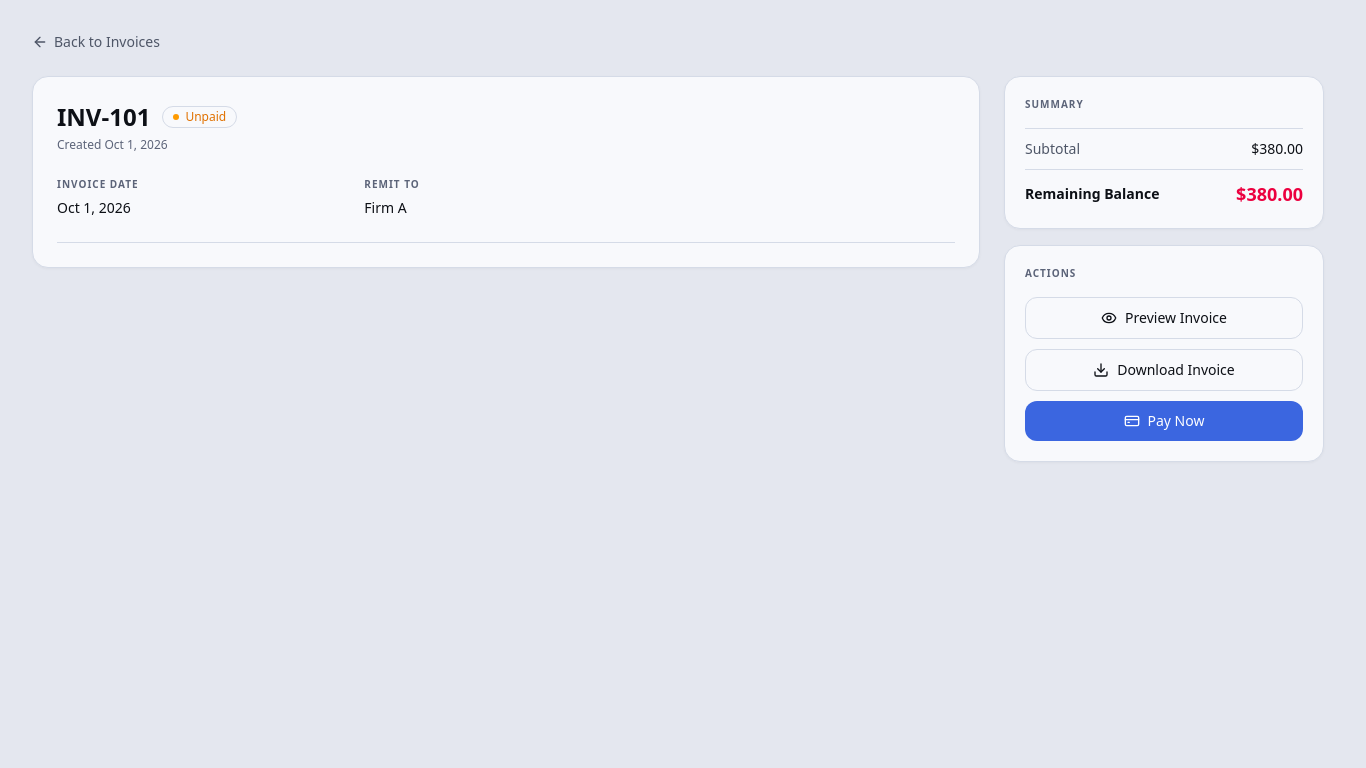
shows a refused checkout on the page and closes the chooser
Click the button "Pay Now": (1164, 421) left=1025, top=401, right=1303, bottom=441
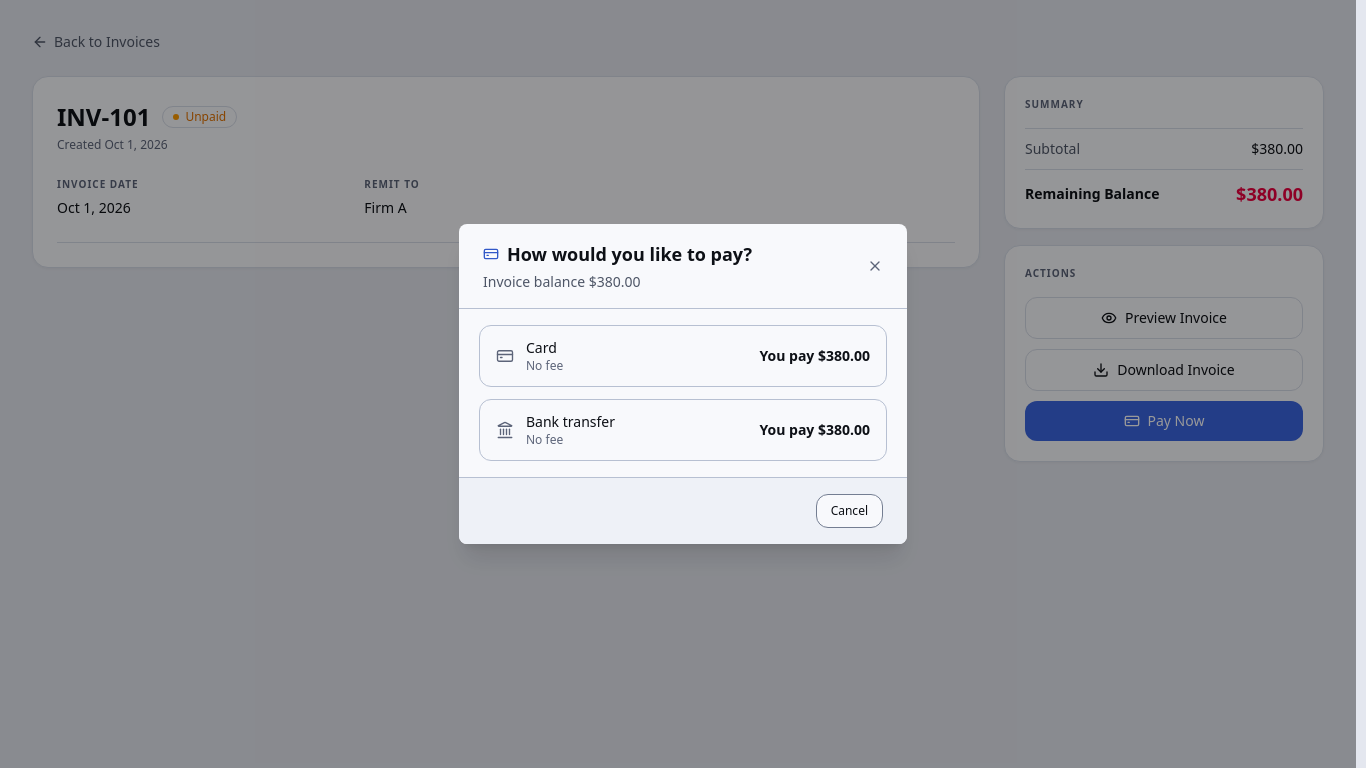
Click the button "Bank transfer No fee You pay $380.00": (570, 422) left=479, top=399, right=887, bottom=461
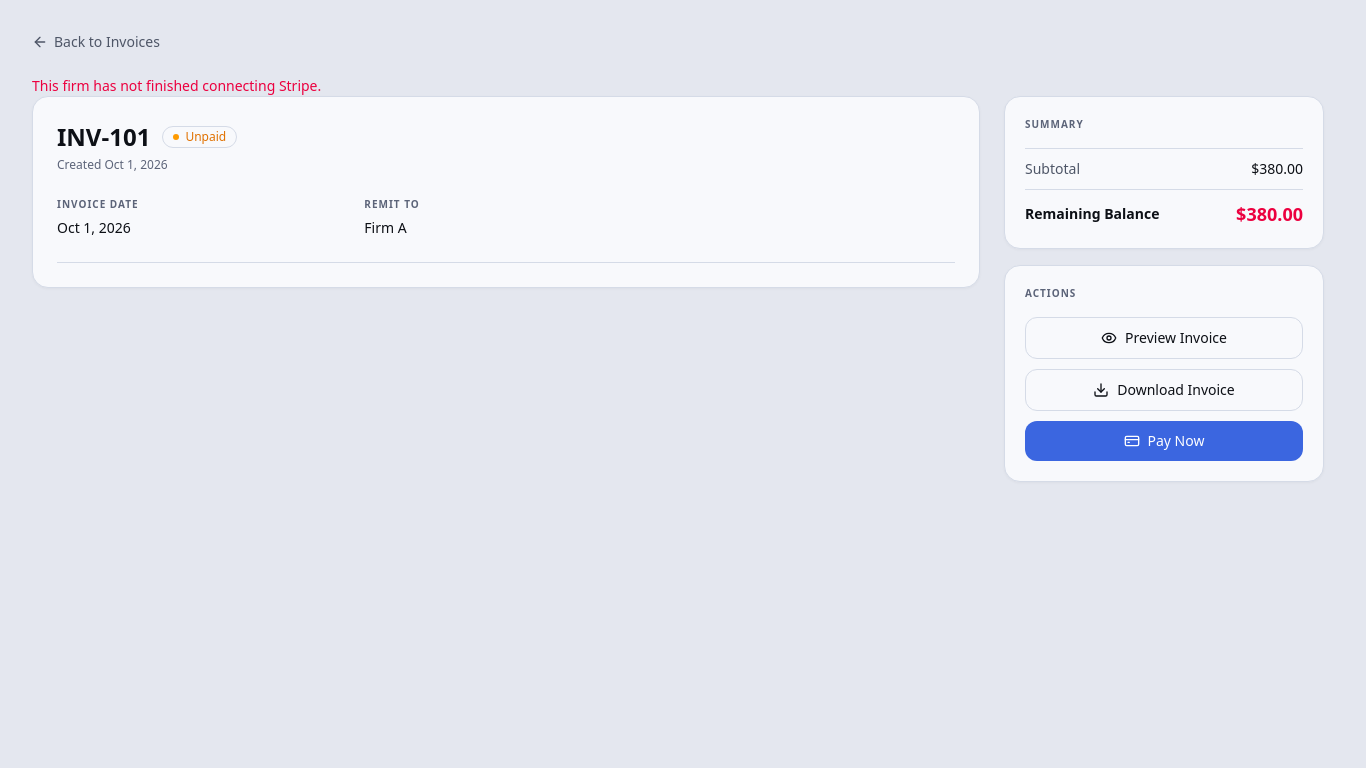
Check: the message reads "This firm has not finished connecting Stripe.", box left=32, top=76, right=321, bottom=95
Check: the heading "How would you like to pay?" is gone
